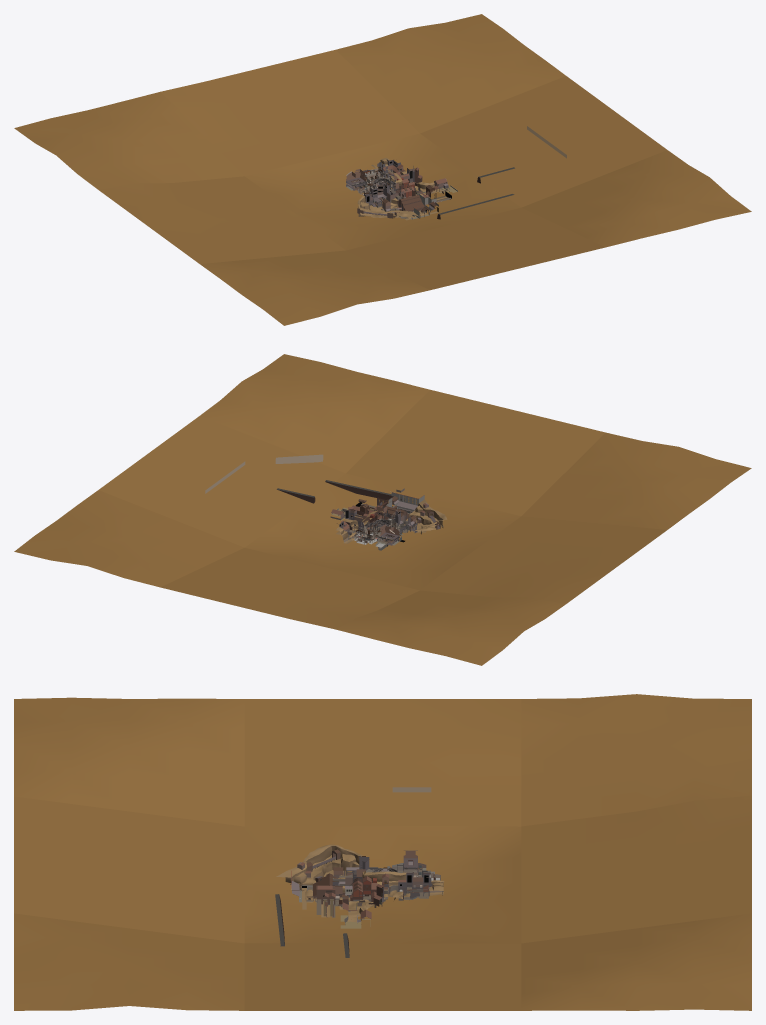
The model's file is world.glb.
3 views of the same model, one above another, from view 1: azimuth 30°, elevation 25°; view 2: azimuth 150°, elevation 25°; view 3: azimuth 270°, elevation 25° (orthographic). The views are drawn at different scales.
Visible parts, largest first — view 1: skybox_3d_mesh, chunk_1_1_mesh, chunk_2_2_mesh; view 2: skybox_3d_mesh, chunk_2_2_mesh, chunk_1_3_mesh; view 3: skybox_3d_mesh, chunk_2_2_mesh, chunk_2_1_mesh, chunk_0_1_mesh, chunk_2_3_mesh, chunk_1_0_mesh, chunk_1_1_mesh, chunk_3_1_mesh.
Boxes of the visible parts, left/top/right/bottom form: skybox_3d_mesh: left=14, top=14, right=751, bottom=325; chunk_1_1_mesh: left=372, top=183, right=414, bottom=217; chunk_2_2_mesh: left=386, top=166, right=425, bottom=194; skybox_3d_mesh: left=14, top=354, right=751, bottom=665; chunk_2_2_mesh: left=344, top=507, right=383, bottom=530; chunk_1_3_mesh: left=354, top=524, right=393, bottom=550; skybox_3d_mesh: left=14, top=694, right=751, bottom=1010; chunk_2_2_mesh: left=357, top=871, right=406, bottom=909; chunk_2_1_mesh: left=313, top=881, right=361, bottom=917; chunk_0_1_mesh: left=310, top=844, right=362, bottom=876; chunk_2_3_mesh: left=398, top=870, right=444, bottom=900; chunk_1_0_mesh: left=276, top=862, right=321, bottom=898; chunk_1_1_mesh: left=313, top=857, right=362, bottom=887; chunk_3_1_mesh: left=316, top=894, right=361, bottom=928.
Bounding box in the file's own units: 32768 × 3232 × 32768.
